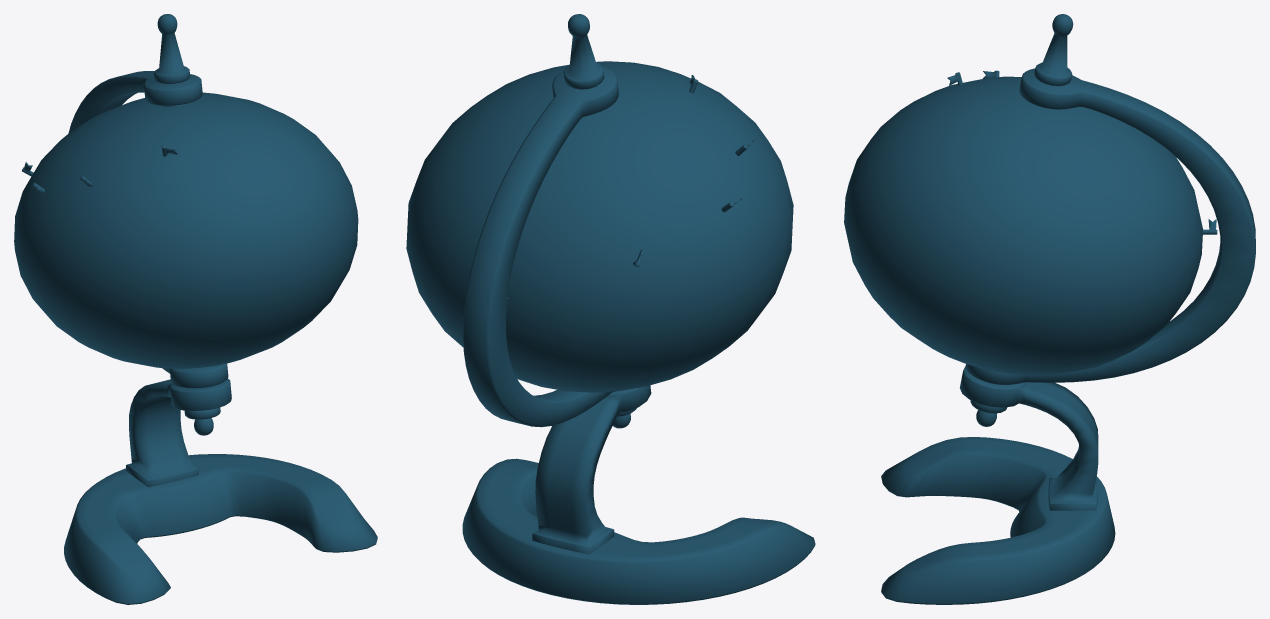
The model's file is Globe_01.FBX.
3 views of the same model, side by side, from view 1: azimuth 30°, elevation 25°; view 2: azimuth 150°, elevation 25°; view 3: azimuth 270°, elevation 25° (orthographic). The views are drawn at different scales.
Visible parts, largest first — view 1: default; view 2: default; view 3: default.
Part boxes in pixels (<box>): default: <box>14,14,377,604</box>; default: <box>406,14,815,604</box>; default: <box>844,14,1255,604</box>.
Bounding box in the file's own units: 45.38 × 71.94 × 51.64.
